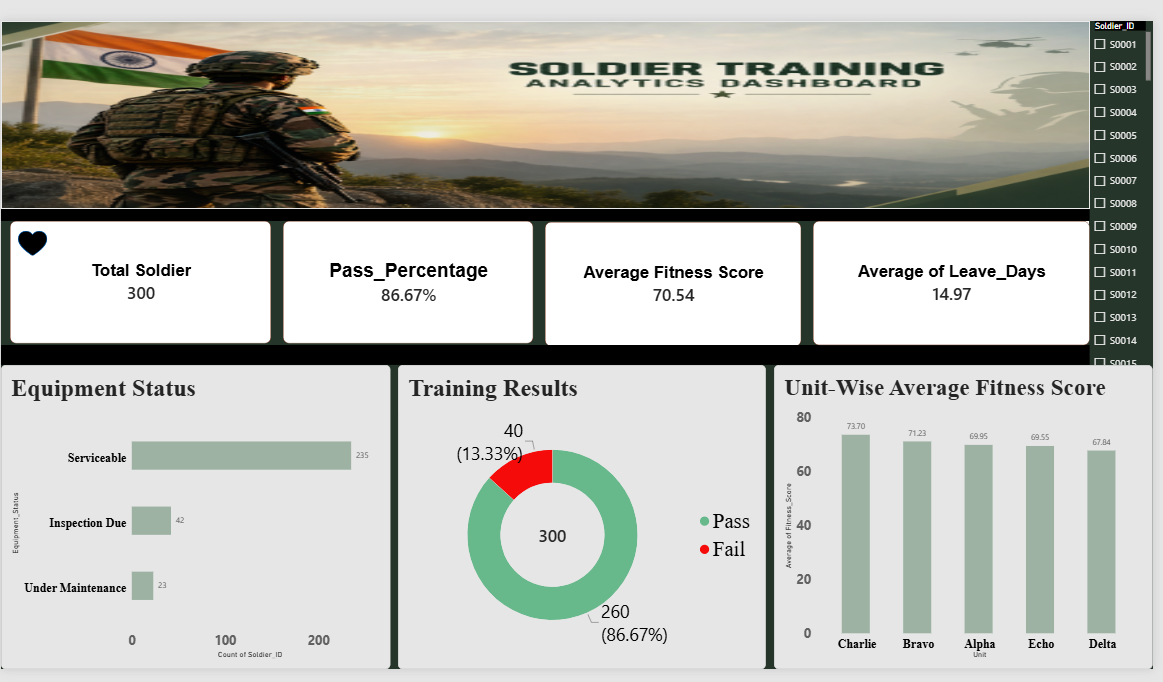

The page's visual inventory and layout, read from the dashboard file:
{"tool":"powerbi","page":{"name":"Page 1","canvas":[1920,1080],"ordinal":0},"visuals":[{"type":"cardVisual","fields":{"Data":["Avg(soldier_analytics soldier_training.Fitness_Score)"]},"box":[907.1,334.3,427.1,207.1],"z":0},{"type":"cardVisual","fields":{"Data":["soldier_analytics soldier_training.Pass_Percentage"]},"box":[470,332.9,417.1,204.3],"z":1000},{"type":"donutChart","title":" Training Results","fields":{"Category":["soldier_analytics soldier_training.Training_Result"],"Y":["CountNonNull(soldier_analytics soldier_training.Soldier_ID)"]},"box":[661.4,572.9,612.9,507.1],"z":2000},{"type":"clusteredColumnChart","title":"Unit-Wise Average Fitness Score","fields":{"Category":["soldier_analytics soldier_training.Unit"],"Y":["Avg(soldier_analytics soldier_training.Fitness_Score)"]},"box":[1288.6,572.9,631.4,507.1],"z":3000},{"type":"clusteredBarChart","title":"Equipment Status","fields":{"Category":["soldier_analytics soldier_training.Equipment_Status"],"Y":["CountNonNull(soldier_analytics soldier_training.Soldier_ID)"]},"box":[0,572.9,648.6,507.1],"z":4000},{"type":"cardVisual","fields":{"Data":["Count(soldier_analytics soldier_training.Soldier_ID)"]},"box":[14.3,332.9,435.7,204.3],"z":5000},{"type":"image","box":[0,0,1814.3,312.9],"z":6000},{"type":"shape","box":[0,312.9,1814.3,20],"z":7000},{"type":"shape","box":[0,540,1814.3,32.9],"z":8000},{"type":"shape","box":[28.6,350,48.6,41.4],"z":9000},{"type":"slicer","fields":{"Values":["soldier_analytics soldier_training.Soldier_ID"]},"box":[1814.3,0,101.4,572.9],"z":10000},{"type":"cardVisual","fields":{"Data":["Avg(soldier_analytics soldier_training.Leave_Days)"]},"box":[1352.9,332.9,461.4,207.1],"z":11000}]}

Visuals, with their boxes in screenshot pixels (x1, y1, x2, y2):
cardVisual - Avg(soldier_analytics soldier_training.Fitness_Score): bbox(545, 218, 800, 342)
cardVisual - soldier_analytics soldier_training.Pass_Percentage: bbox(284, 217, 533, 339)
" Training Results" donutChart: bbox(398, 360, 764, 663)
"Unit-Wise Average Fitness Score" clusteredColumnChart: bbox(773, 360, 1150, 663)
"Equipment Status" clusteredBarChart: bbox(3, 360, 390, 663)
cardVisual - Count(soldier_analytics soldier_training.Soldier_ID): bbox(12, 217, 272, 339)
image: bbox(3, 18, 1087, 205)
shape: bbox(3, 205, 1087, 217)
shape: bbox(3, 341, 1087, 360)
shape: bbox(20, 227, 49, 252)
slicer - soldier_analytics soldier_training.Soldier_ID: bbox(1087, 18, 1147, 360)
cardVisual - Avg(soldier_analytics soldier_training.Leave_Days): bbox(811, 217, 1087, 341)
